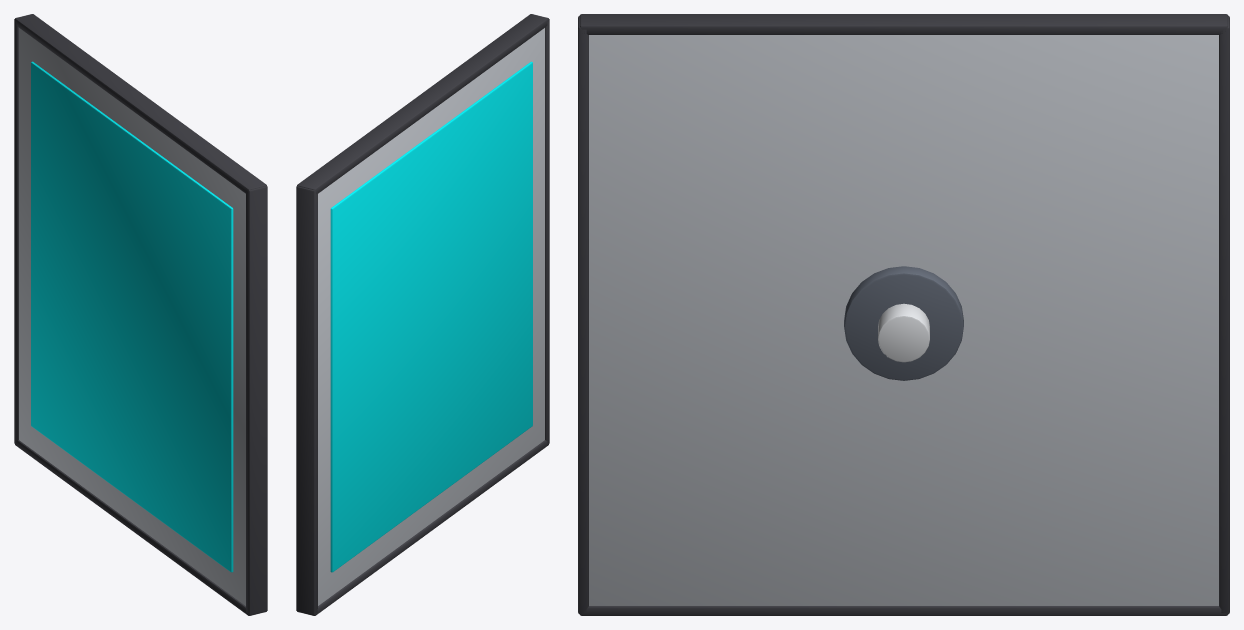
Rendered from piston_plate.glb.
3 renders of one model, left to right at view 1: azimuth 30°, elevation 25°; view 2: azimuth 150°, elevation 25°; view 3: azimuth 270°, elevation 25°, orthographic. The views are drawn at different scales.
Visible parts, largest first — view 1: Cube; view 2: Cube; view 3: Cube.
Boxes of the visible parts, x1,y1,x2,y2 form: Cube: (14, 14, 267, 615); Cube: (296, 14, 549, 615); Cube: (578, 14, 1229, 615).
Size of the model in its own units: 0.68 by 5.98 by 5.98.
